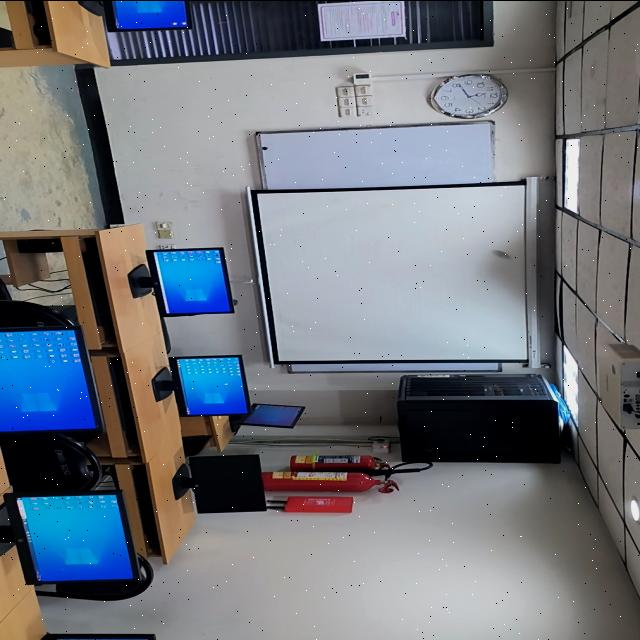Chair: (0, 433, 102, 490), (37, 554, 154, 600), (0, 278, 77, 326)
Fire Extinguisher: (263, 471, 383, 491), (291, 454, 390, 469), (268, 495, 354, 512)
Keyboard: (82, 238, 114, 337), (108, 357, 138, 450), (132, 464, 158, 548), (25, 0, 49, 43)
Light: (563, 138, 581, 210), (562, 344, 579, 420), (630, 498, 640, 521)
Monitor: (0, 489, 140, 587), (0, 328, 98, 430), (147, 247, 234, 315), (172, 355, 250, 414), (190, 454, 266, 512), (112, 0, 190, 28), (242, 403, 305, 427), (39, 633, 157, 640)
Projector: (600, 342, 640, 428)
